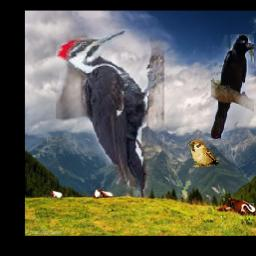Crow: (212, 35, 255, 140)
Sparrow: (187, 139, 219, 167)
Woodpecker: (57, 29, 165, 198)
